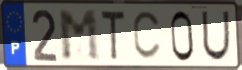0: (169, 9, 196, 63)
2: (32, 8, 59, 63)
C: (131, 10, 163, 62)
M: (57, 9, 103, 63)
T: (99, 8, 127, 63)
U: (200, 9, 231, 63)
